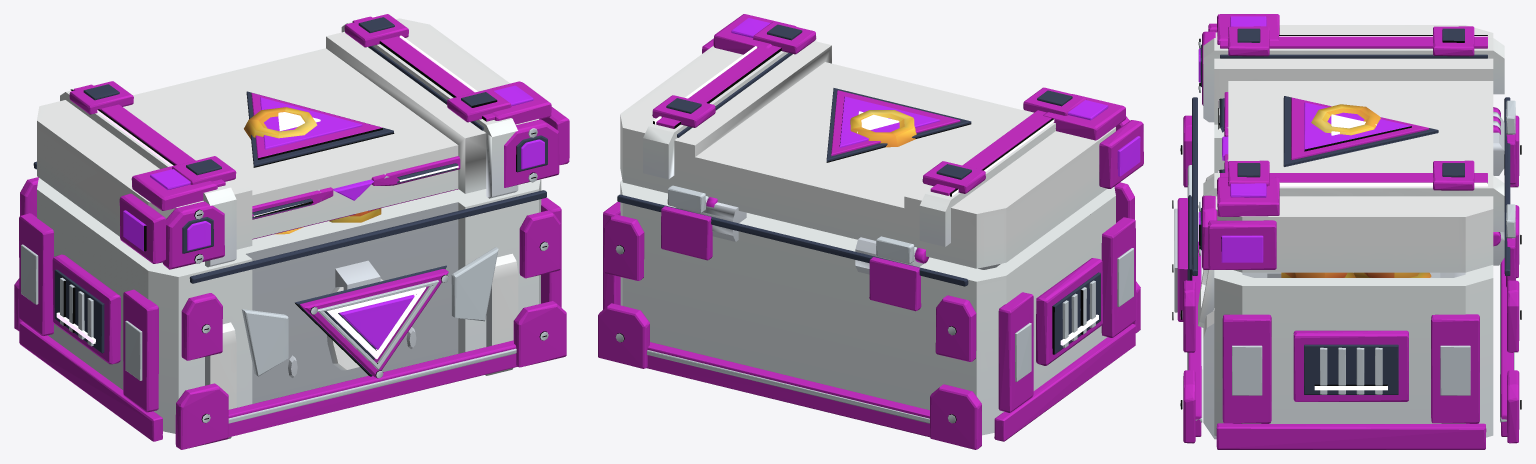
Rendered from prism-signal.glb.
The picture shows the model from 3 angles, left to right: view 1: azimuth 30°, elevation 25°; view 2: azimuth 150°, elevation 25°; view 3: azimuth 270°, elevation 25°; orthographic projection.
Visible parts, largest first — view 1: Body, LidShell, CoinPile; view 2: Body, LidShell, CoinPile; view 3: LidShell, Body, CoinPile.
Part boxes in pixels (x1,y1,x2,y2): Body: (14, 161, 566, 449); LidShell: (37, 14, 569, 269); CoinPile: (244, 107, 381, 234); Body: (598, 180, 1140, 449); LidShell: (620, 14, 1143, 268); CoinPile: (850, 110, 916, 147); LidShell: (1198, 14, 1515, 272); Body: (1172, 97, 1521, 449); CoinPile: (1281, 104, 1431, 277).
Bounding box in the file's own units: 2.2 × 1.27 × 1.54.
2 materials, 2 textured.
